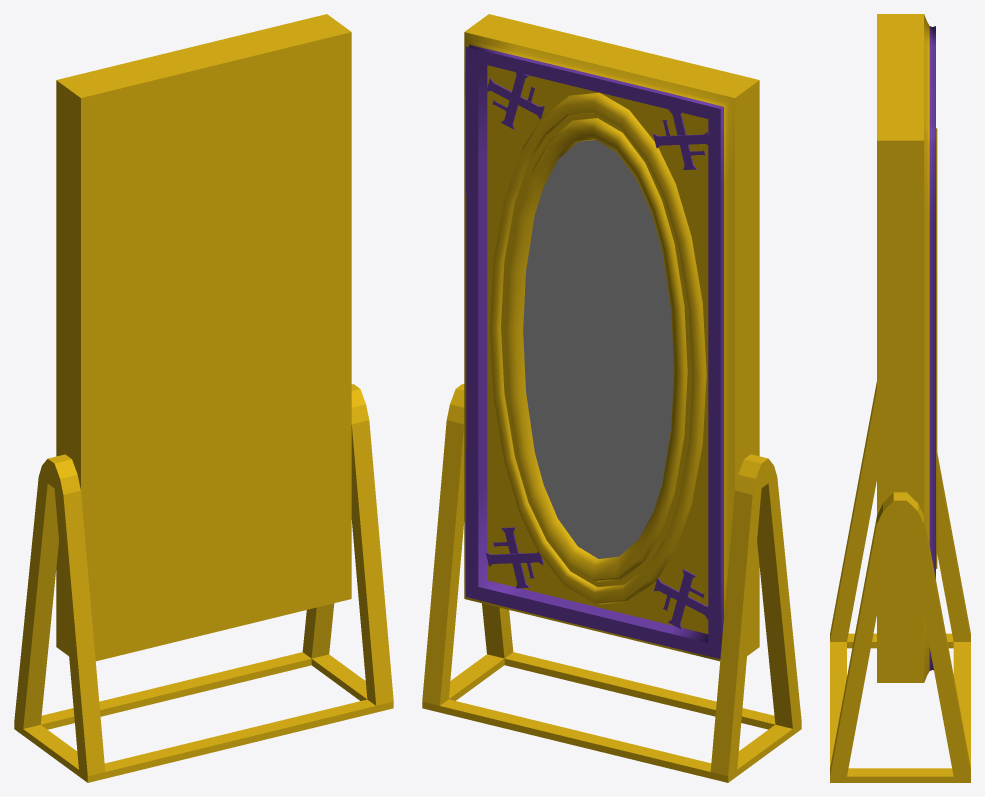
Rendered from succ.fbx.
The picture shows the model from 3 angles, left to right: view 1: azimuth 30°, elevation 25°; view 2: azimuth 150°, elevation 25°; view 3: azimuth 270°, elevation 25°; orthographic projection. The views are drawn at different scales.
Visible parts, largest first — view 1: succespelho.014, Cube.008; view 2: succespelho.014, succespelho.015, Cube.008, decal.015, decal.016, decal.014, decal.017; view 3: succespelho.014, Cube.008.
Part boxes in pixels (x1,y1,x2,y2): succespelho.014: [56, 14, 351, 661]; Cube.008: [14, 384, 393, 782]; succespelho.014: [464, 14, 759, 661]; succespelho.015: [523, 140, 673, 558]; Cube.008: [422, 384, 801, 782]; decal.015: [485, 527, 543, 588]; decal.016: [486, 72, 544, 129]; decal.014: [654, 569, 708, 629]; decal.017: [653, 109, 708, 169]; succespelho.014: [877, 14, 937, 682]; Cube.008: [830, 382, 970, 782].
Bounding box in the file's own units: 113 × 234 × 47.06.
